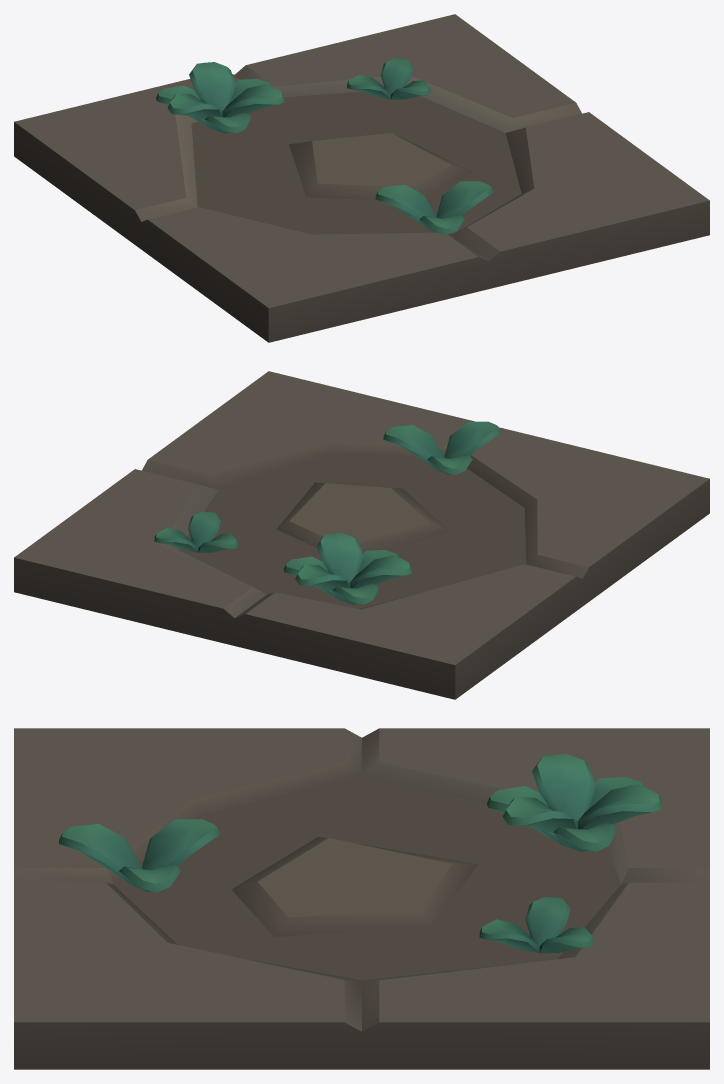
Rendered from floor-tile-small-weeds-a.glb.
The picture shows the model from 3 angles, top to bottom: view 1: azimuth 30°, elevation 25°; view 2: azimuth 150°, elevation 25°; view 3: azimuth 270°, elevation 25°; orthographic projection. The views are drawn at different scales.
Visible parts, largest first — view 1: floor-tile-small-weeds-a; view 2: floor-tile-small-weeds-a; view 3: floor-tile-small-weeds-a.
Part boxes in pixels (x1,y1,x2,y2): floor-tile-small-weeds-a: (14, 14, 709, 342); floor-tile-small-weeds-a: (14, 371, 709, 699); floor-tile-small-weeds-a: (14, 728, 709, 1069).
Size of the model in its own units: 1.5 by 0.2216 by 1.5.
